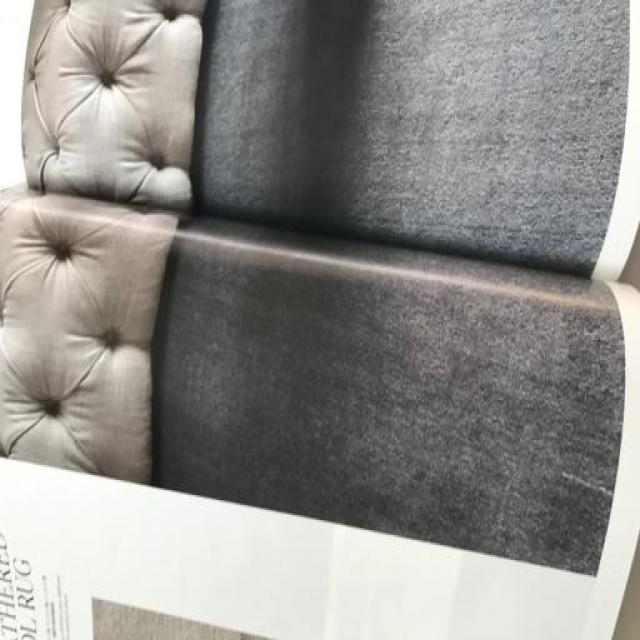paper: (4, 7, 640, 640)
